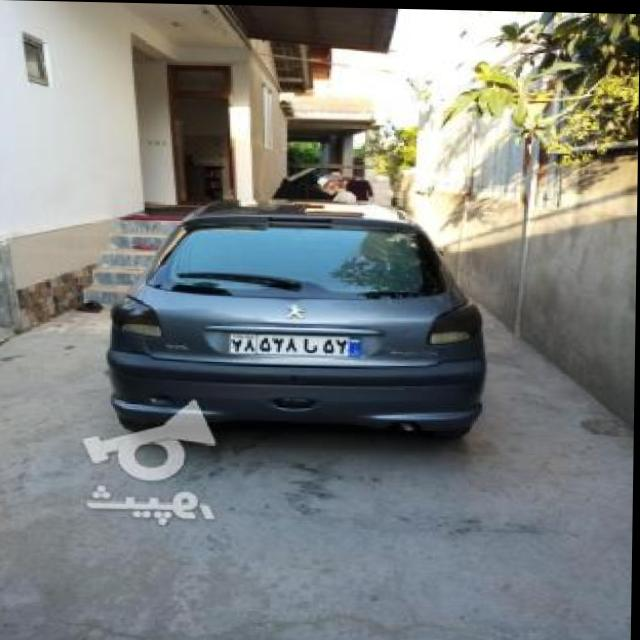licence: (232, 330, 375, 354)
